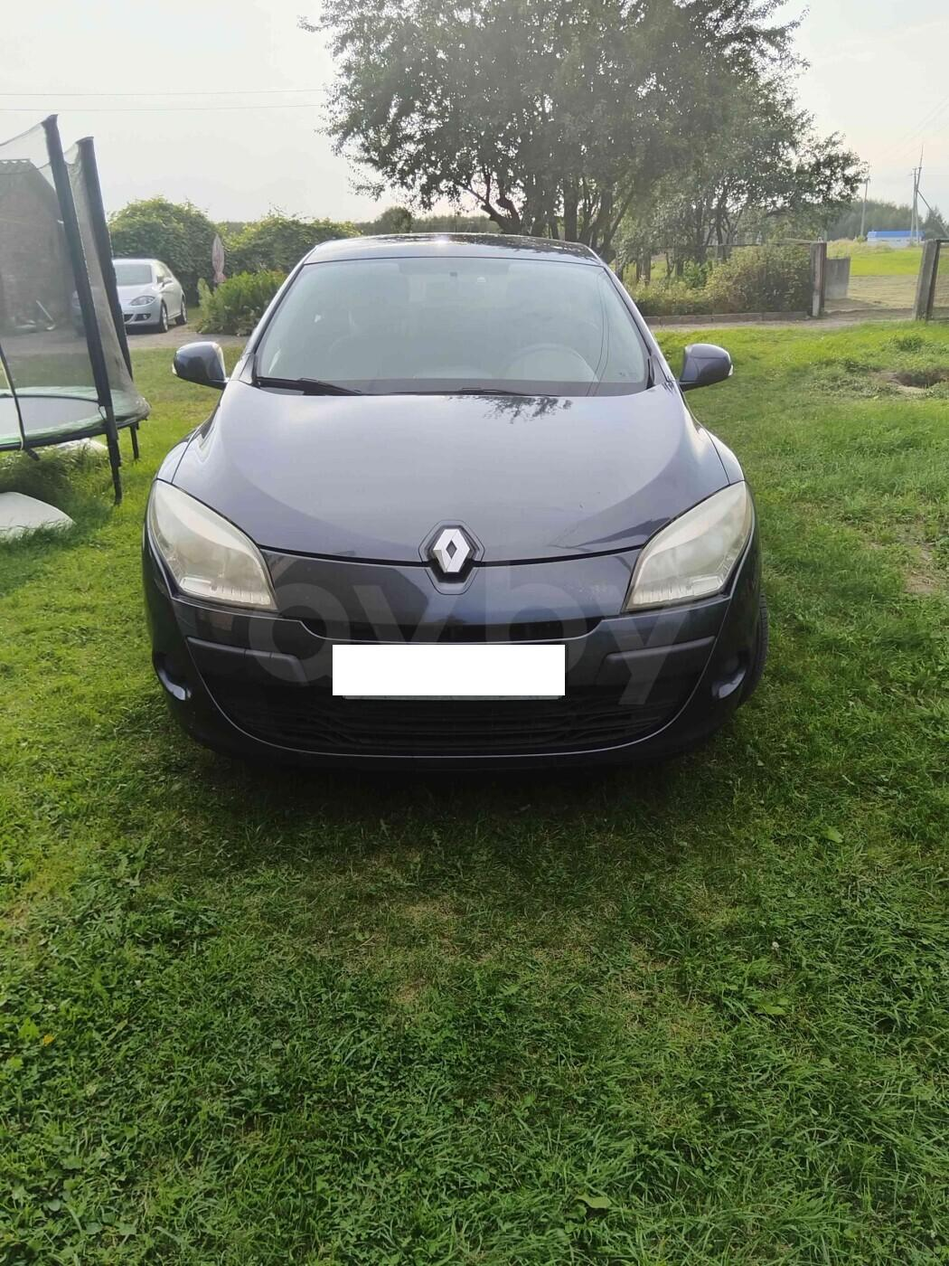Megane_2008-2014: (146, 228, 775, 794)
